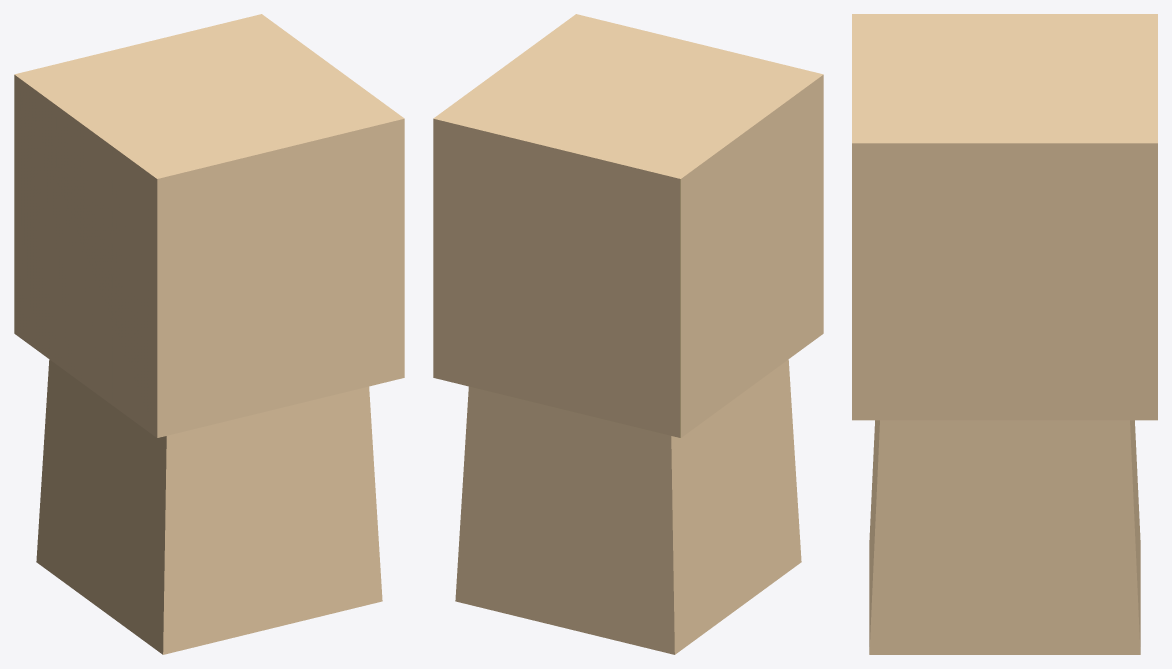
File: Thor_Arm 1.FBX
3 views of the same model, side by side, from view 1: azimuth 30°, elevation 25°; view 2: azimuth 150°, elevation 25°; view 3: azimuth 270°, elevation 25° (orthographic). The views are drawn at different scales.
Parts seen in each view (by area): view 1: UpperArm; view 2: UpperArm; view 3: UpperArm.
Part boxes in pixels (left/top/right/bottom): UpperArm: left=14, top=14, right=404, bottom=654; UpperArm: left=433, top=14, right=823, bottom=654; UpperArm: left=852, top=14, right=1157, bottom=654.
Bounding box in the file's own units: 4.5 × 4.5 × 8.43.
1 material, 1 textured.
